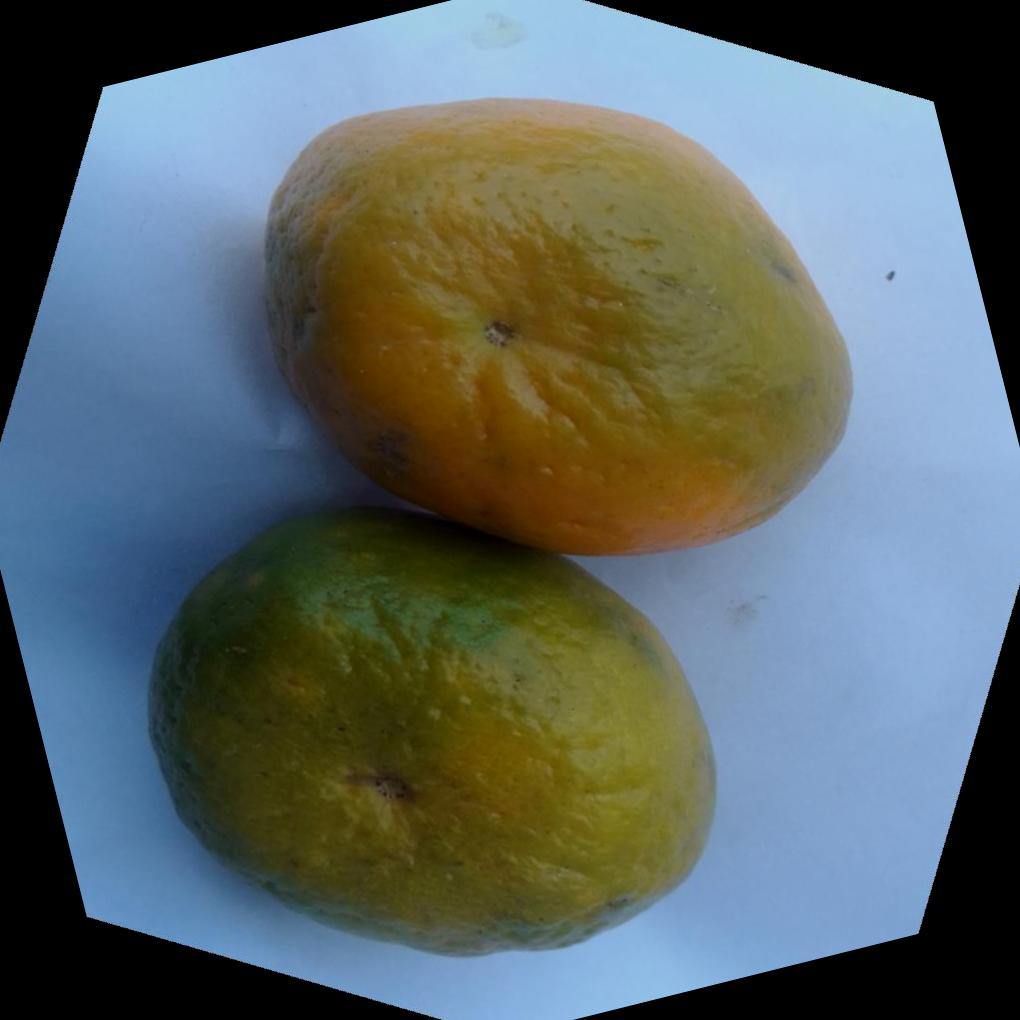FreshGuava: (144, 90, 855, 957)
